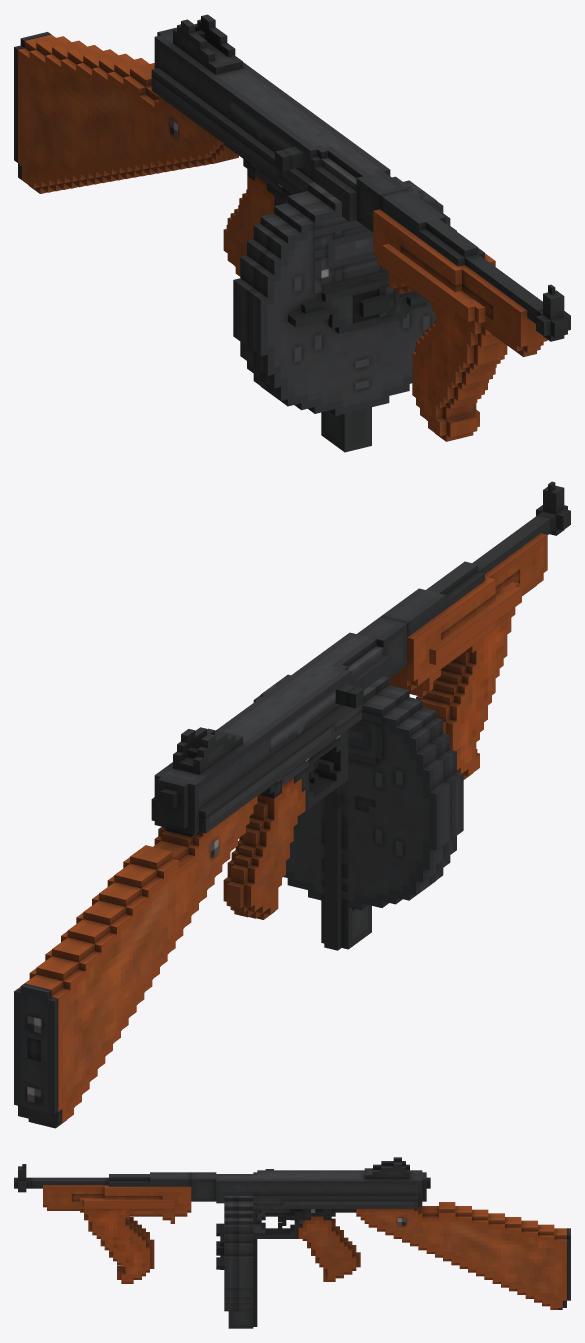
The picture shows the model from 3 angles, top to bottom: view 1: azimuth 30°, elevation 25°; view 2: azimuth 150°, elevation 25°; view 3: azimuth 270°, elevation 25°; orthographic projection. The views are drawn at different scales.
Parts seen in each view (by area): view 1: M1A1, M1A1_CLIP2, M1A1_GRIP1, M1A1_GRIP0, M1A1_CLIP, M1A1_BOLT; view 2: M1A1, M1A1_CLIP2, M1A1_GRIP1, M1A1_GRIP0, M1A1_CLIP; view 3: M1A1, M1A1_GRIP1, M1A1_CLIP2, M1A1_GRIP0, M1A1_CLIP.
Part boxes in pixels (bbox=[...]): M1A1: bbox=[14, 14, 570, 341]; M1A1_CLIP2: bbox=[233, 176, 456, 415]; M1A1_GRIP1: bbox=[382, 243, 507, 441]; M1A1_GRIP0: bbox=[373, 209, 547, 356]; M1A1_CLIP: bbox=[321, 407, 371, 452]; M1A1_BOLT: bbox=[275, 147, 302, 171]; M1A1: bbox=[14, 481, 570, 1128]; M1A1_CLIP2: bbox=[253, 674, 463, 910]; M1A1_GRIP1: bbox=[409, 582, 521, 779]; M1A1_GRIP0: bbox=[390, 533, 547, 691]; M1A1_CLIP: bbox=[321, 785, 371, 950]; M1A1: bbox=[14, 1157, 570, 1309]; M1A1_GRIP1: bbox=[80, 1198, 174, 1283]; M1A1_CLIP2: bbox=[216, 1196, 253, 1311]; M1A1_GRIP0: bbox=[43, 1185, 191, 1216]; M1A1_CLIP: bbox=[228, 1239, 257, 1328].
Bounding box in the file's own units: 0.2953 × 0.4331 × 1.33.
1 material, 1 textured.
